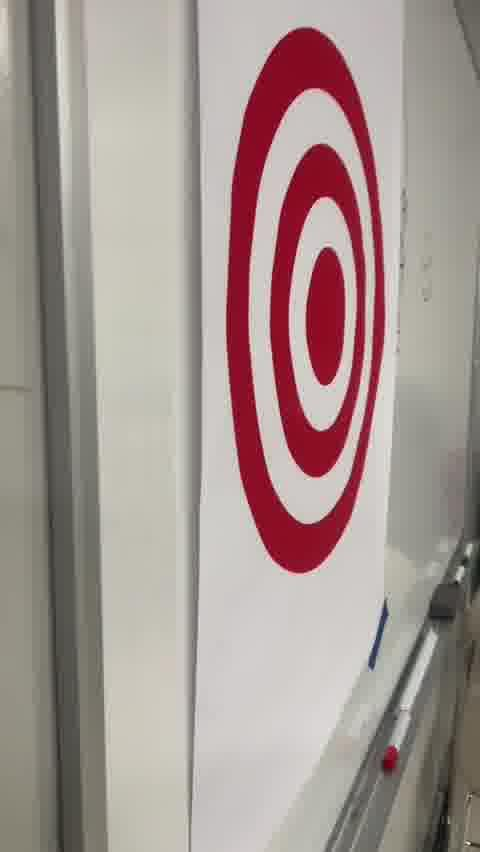target_red: (226, 26, 386, 571)
